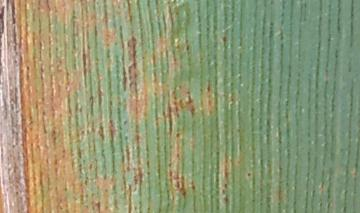tarspot: (1, 4, 6, 35), (10, 1, 16, 25), (221, 34, 229, 49), (173, 130, 181, 139), (24, 70, 30, 81), (184, 43, 191, 52), (121, 117, 128, 125), (246, 170, 252, 179), (24, 64, 31, 71), (223, 181, 228, 188), (5, 1, 10, 5)
